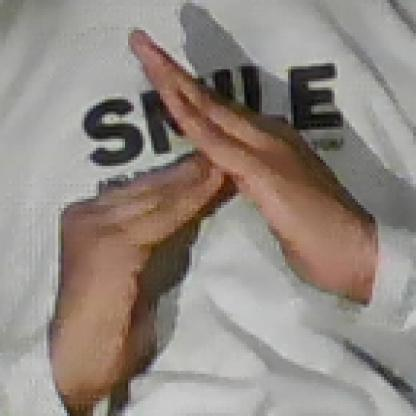Z: (53, 26, 352, 368)
